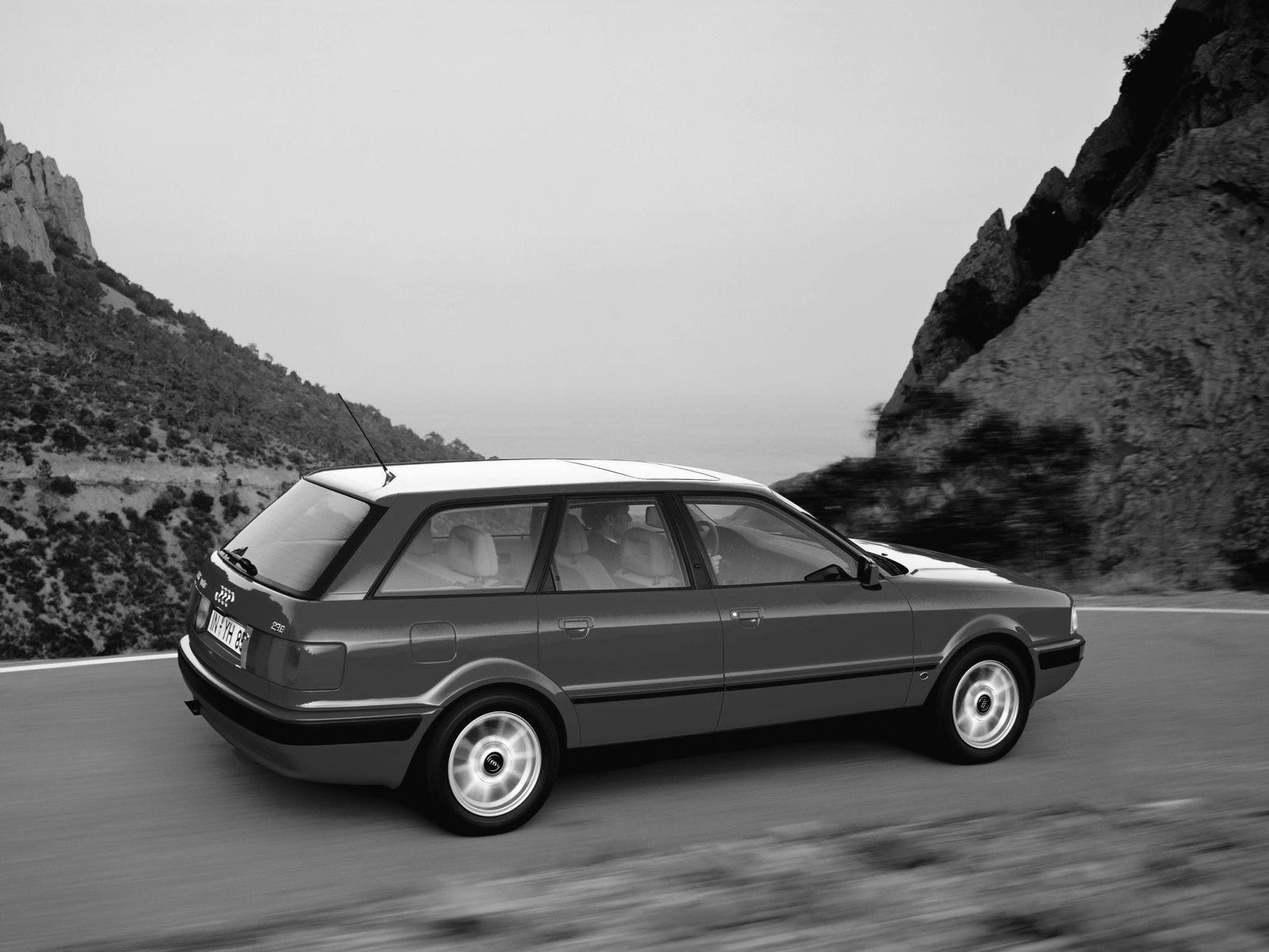car: (173, 397, 1091, 842)
